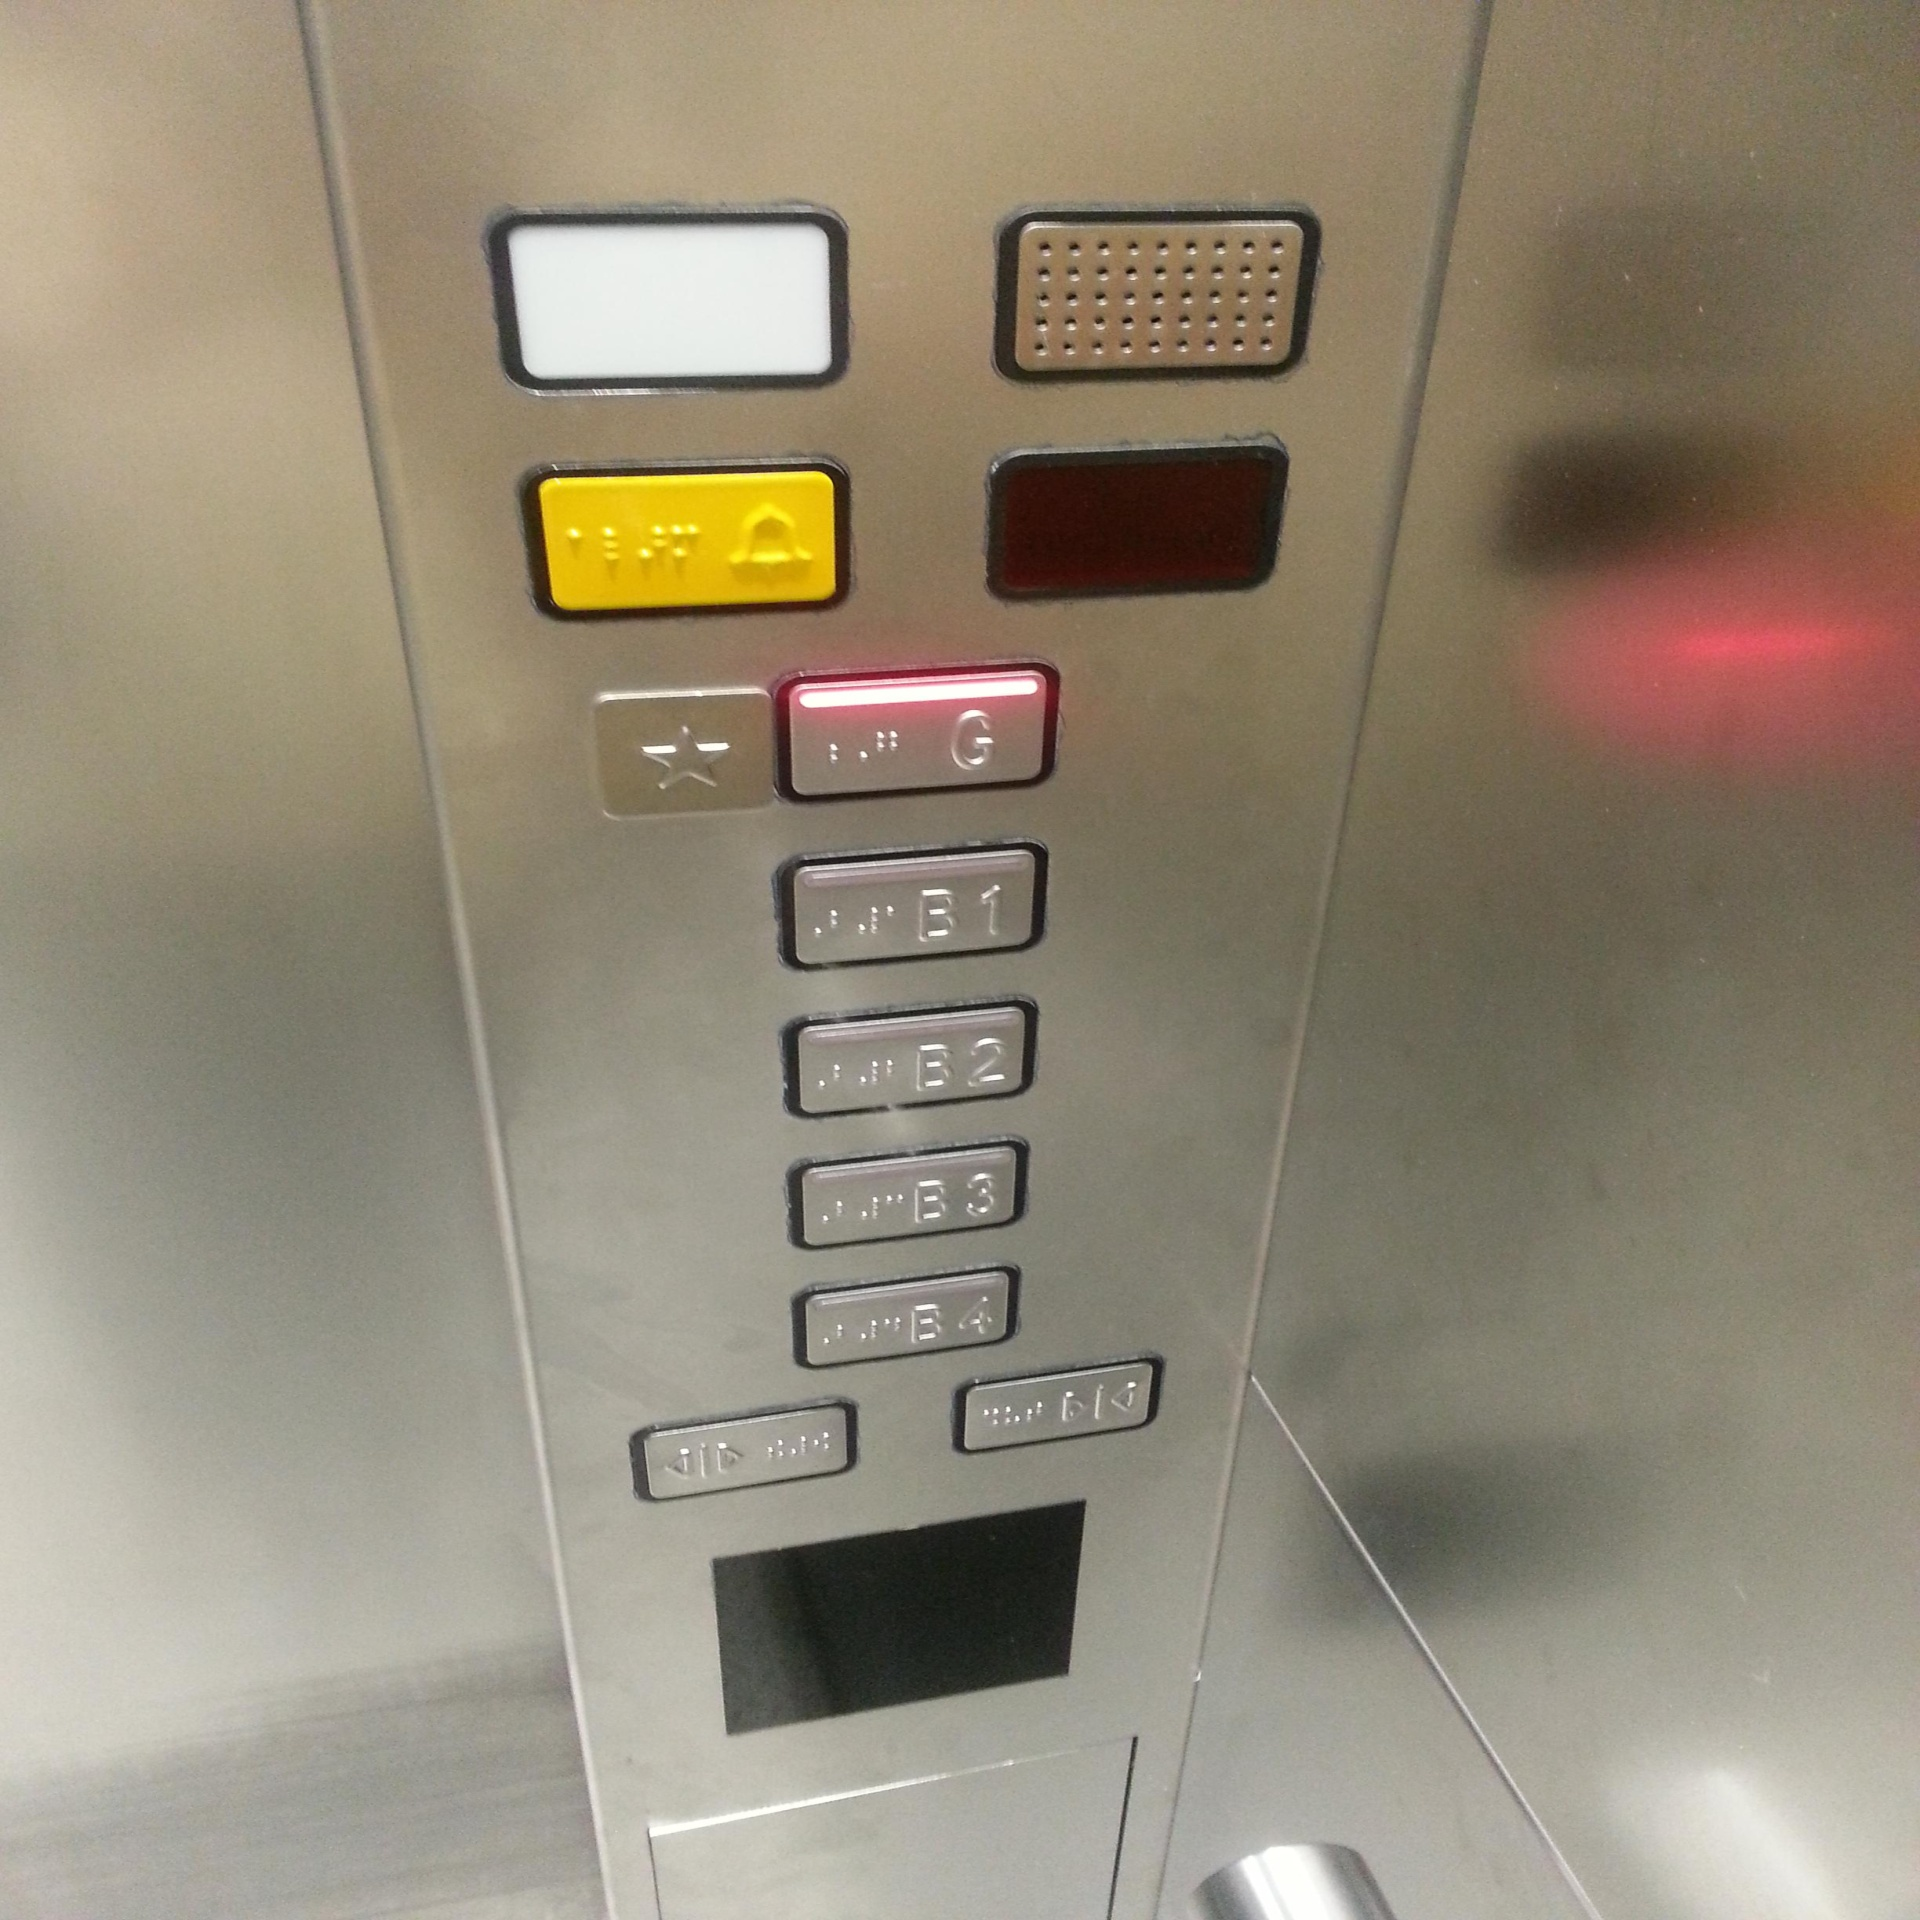B1: (767, 837, 1060, 978)
B2: (774, 985, 1048, 1125)
B3: (775, 1131, 1036, 1255)
B4: (784, 1255, 1025, 1373)
G: (767, 652, 1062, 812)
alarm: (512, 452, 856, 631)
close: (948, 1350, 1166, 1461)
empty: (485, 200, 858, 397), (976, 438, 1292, 610)
led: (703, 1489, 1094, 1749)
open: (624, 1393, 867, 1510)
s: (578, 680, 777, 833)
speaker: (988, 202, 1322, 389)
